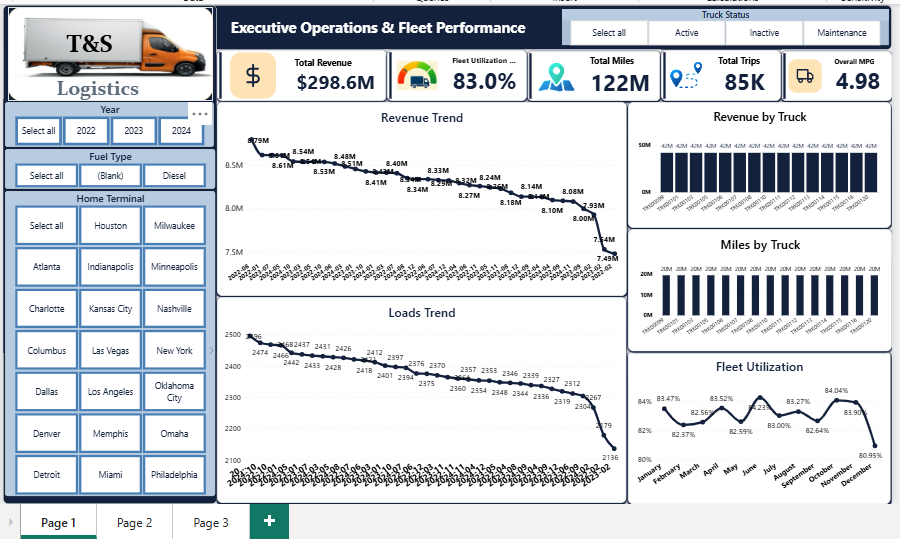

What the dashboard file says about the page in this screenshot:
{"tool":"powerbi","page":{"name":"Page 1","canvas":[1920,1080],"ordinal":0},"visuals":[{"type":"shape","box":[0,2.2,1920.2,97.2],"z":1000},{"type":"shape","box":[0,2.2,462.2,1077.8],"z":1500},{"type":"cardVisual","fields":{"Data":["DateTable.Overall MPG"]},"box":[1680.5,101.5,239.8,108],"z":2000},{"type":"cardVisual","fields":{"Data":["DateTable.Total Miles"]},"box":[1131.8,101.5,289.4,108],"z":3000},{"type":"cardVisual","fields":{"Data":["DateTable.Total Revenue"]},"box":[462.2,99.4,367.2,110.2],"z":4000},{"type":"cardVisual","fields":{"Data":["DateTable.Total Trips"]},"box":[1421.3,99.4,259.2,110.2],"z":5000},{"type":"cardVisual","fields":{"Data":["truck_utilization_metrics.Fleet Utilization Rate"]},"box":[829.4,99.4,302.4,110.2],"z":6000},{"type":"lineChart","title":"Revenue Trend","fields":{"Category":["DateTable.Year Month"],"Y":["DateTable.Total Revenue"]},"box":[462.2,211.7,885,419],"z":7000},{"type":"lineChart","title":"Loads Trend","fields":{"Category":["DateTable.Year Month"],"Y":["DateTable.Total Loads"]},"box":[462.2,632.9,884,445],"z":8000},{"type":"lineChart","title":"Fleet Utilization","fields":{"Category":["truck_utilization_metrics.month.Variation.Date Hierarchy.Month"],"Y":["truck_utilization_metrics.Fleet Utilization Rate"]},"box":[1350,749.5,567,331],"z":9000},{"type":"columnChart","title":"Revenue by Truck","fields":{"Category":["fuel_purchases.truck_id"],"Y":["Sum(truck_utilization_metrics.total_revenue)"]},"box":[1350,211.7,568,272],"z":10000},{"type":"columnChart","title":"Miles by Truck","fields":{"Category":["fuel_purchases.truck_id"],"Y":["Sum(truck_utilization_metrics.total_miles)"]},"box":[1350,486,570.2,263.5],"z":11000},{"type":"slicer","title":"Fuel Type","fields":{"Values":["trucks.fuel_type"]},"box":[4.3,313.2,453.6,86.4],"z":12000},{"type":"slicer","title":"Home Terminal","fields":{"Values":["trucks.home_terminal"]},"box":[4.3,403.9,453.6,658.8],"z":13000},{"type":"slicer","title":"Truck Status","fields":{"Values":["trucks.status"]},"box":[1207.4,10.8,706.3,77.8],"z":14000},{"type":"textbox","box":[462.2,2.2,695.5,97.2],"z":15000},{"type":"slicer","title":"Year","fields":{"Values":["DateTable.Year"]},"box":[4.3,211.7,451.4,97.2],"z":16000},{"type":"image","box":[10.8,6.5,442.8,203],"z":17000},{"type":"textbox","box":[45.4,155.5,328.3,108],"z":19000},{"type":"textbox","box":[67,51.8,239.8,129.6],"z":20000}]}

Visuals, with their boxes in screenshot pixels (x1, y1, x2, y2):
shape: box=[0, 3, 888, 48]
shape: box=[0, 3, 214, 502]
cardVisual - DateTable.Overall MPG: box=[777, 49, 888, 99]
cardVisual - DateTable.Total Miles: box=[523, 49, 657, 99]
cardVisual - DateTable.Total Revenue: box=[214, 48, 383, 99]
cardVisual - DateTable.Total Trips: box=[657, 48, 777, 99]
cardVisual - truck_utilization_metrics.Fleet Utilization Rate: box=[383, 48, 523, 99]
"Revenue Trend" lineChart: box=[214, 100, 623, 294]
"Loads Trend" lineChart: box=[214, 295, 622, 501]
"Fleet Utilization" lineChart: box=[624, 349, 886, 502]
"Revenue by Truck" columnChart: box=[624, 100, 887, 226]
"Miles by Truck" columnChart: box=[624, 227, 888, 349]
"Fuel Type" slicer: box=[2, 147, 212, 187]
"Home Terminal" slicer: box=[2, 189, 212, 494]
"Truck Status" slicer: box=[558, 7, 885, 43]
textbox: box=[214, 3, 535, 48]
"Year" slicer: box=[2, 100, 211, 145]
image: box=[5, 5, 210, 99]
textbox: box=[21, 74, 173, 124]
textbox: box=[31, 26, 142, 86]
